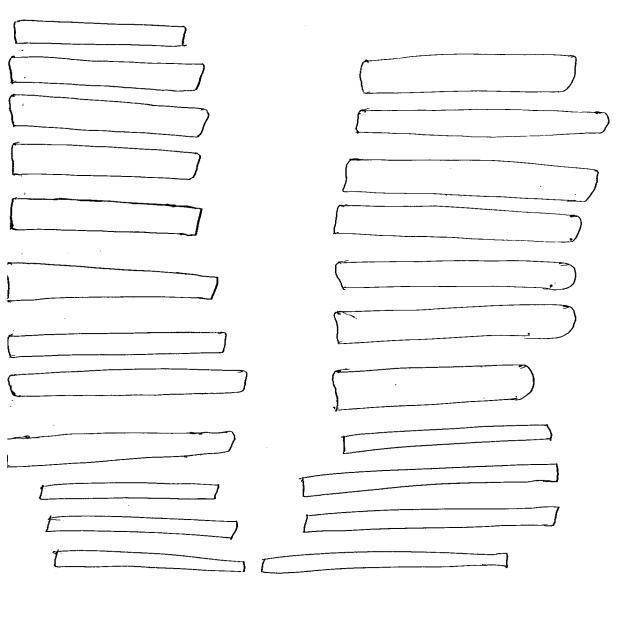textbox: (344, 159, 599, 204), (334, 303, 578, 347), (333, 205, 583, 245), (359, 52, 579, 96), (8, 92, 210, 139), (301, 464, 561, 500), (355, 108, 609, 140), (334, 260, 580, 293), (11, 141, 201, 182), (9, 197, 203, 237), (8, 55, 206, 94), (301, 506, 560, 534), (7, 369, 248, 398), (341, 425, 555, 457), (6, 331, 227, 359), (260, 551, 510, 575), (13, 20, 189, 49), (44, 515, 240, 541), (53, 550, 248, 574), (38, 482, 220, 503)
